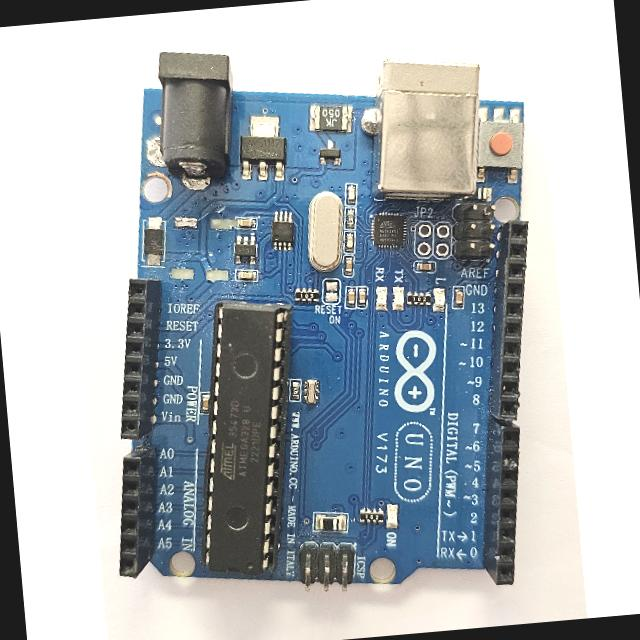missing_capacitors: (167, 201, 240, 291)
